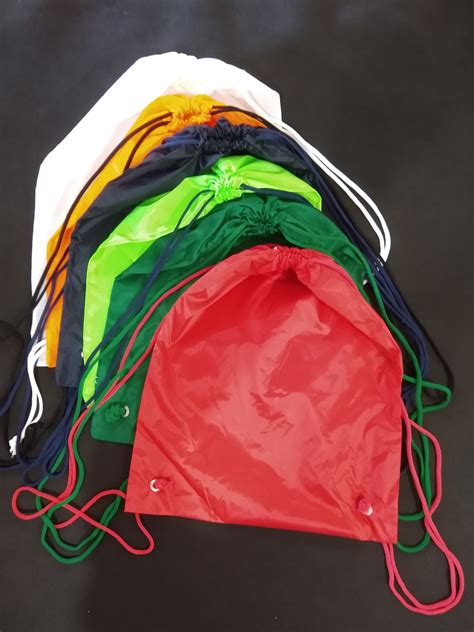nylon: (30, 49, 406, 550)
